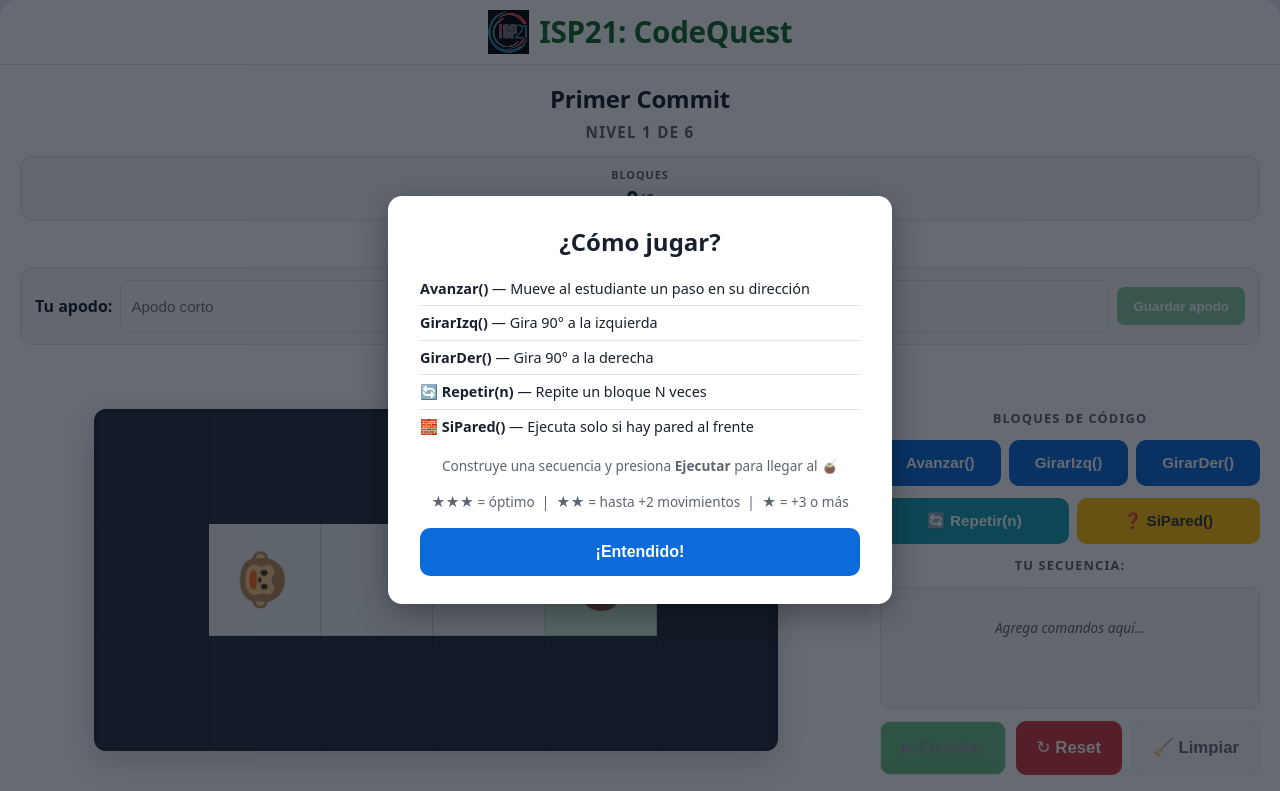
Test case: App › permite cerrar el tutorial
This screenshot has width=1280, height=791.
Click the button "¡Entendido!".
click(640, 552)  # box [420,528,860,576]
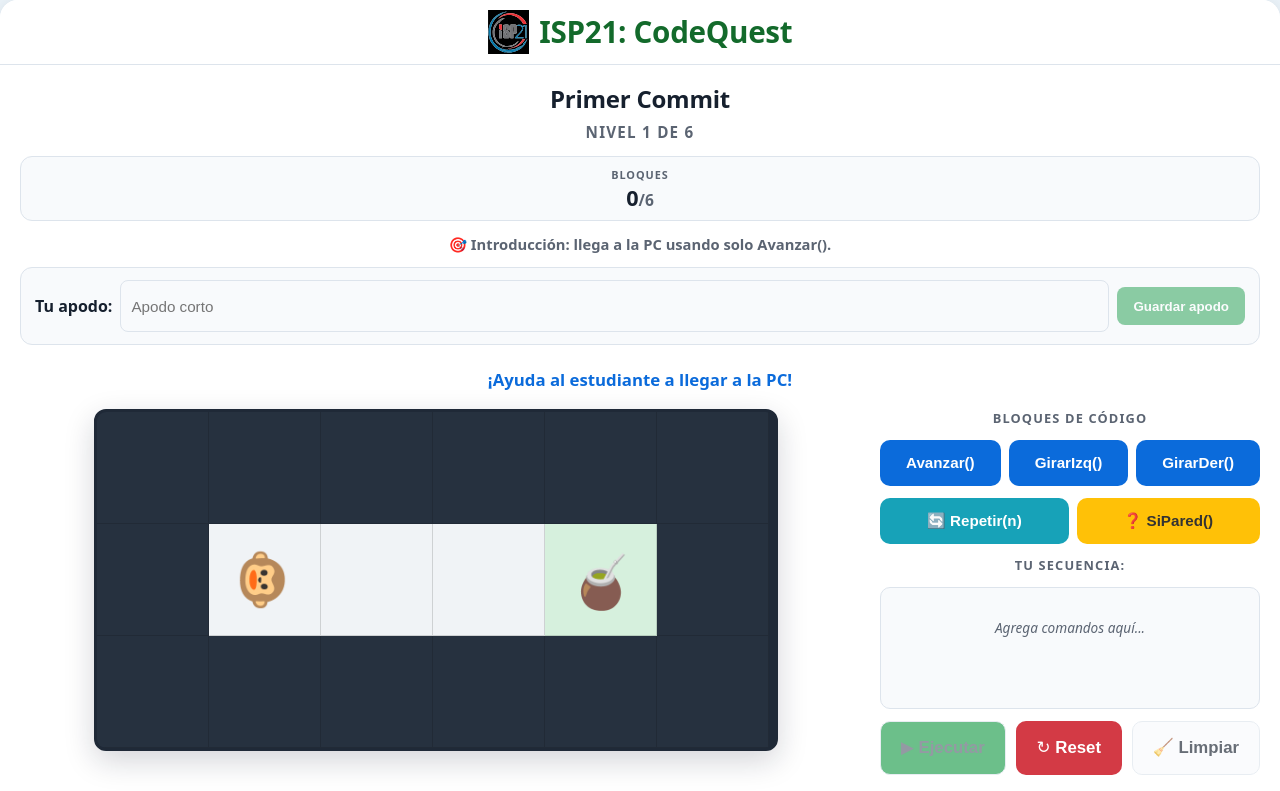
Check: the heading "¿Cómo jugar?" is gone
